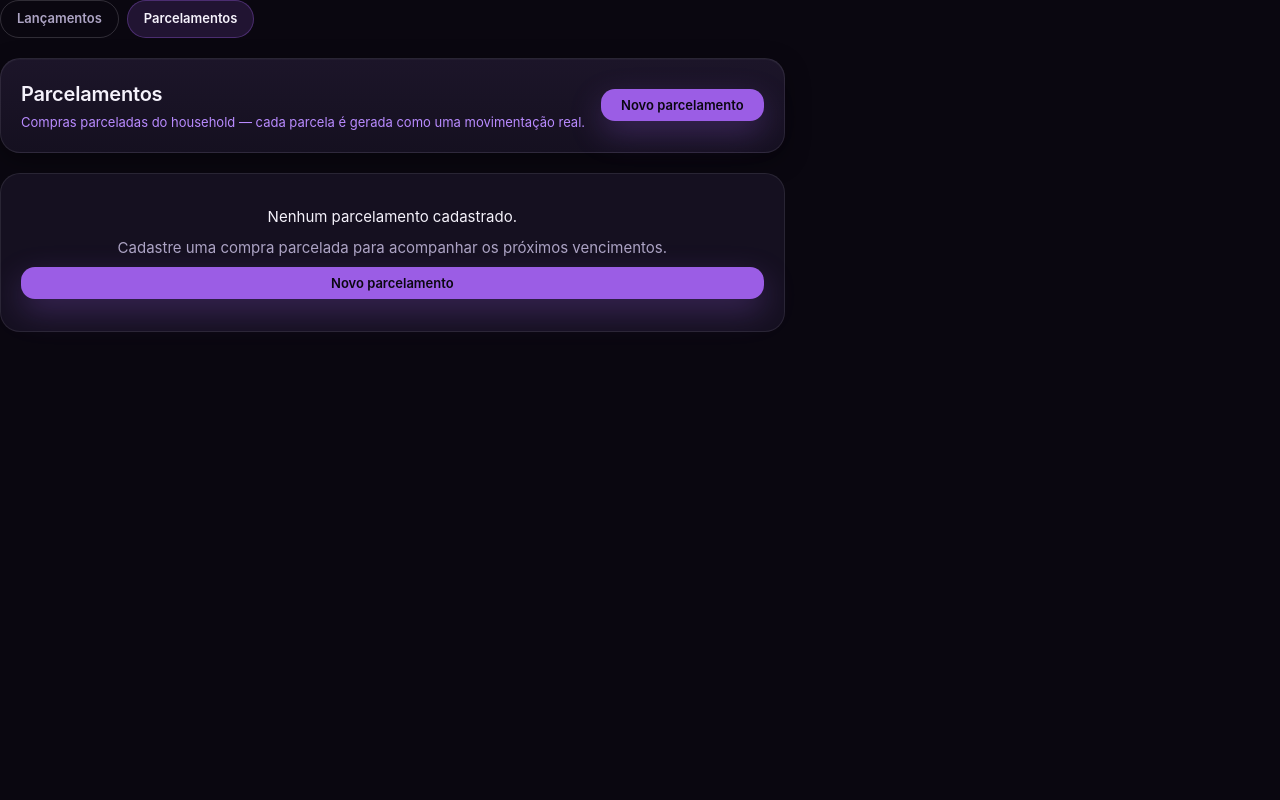
it: InstallmentPlansPage — estado vazio › o CTA do estado vazio abre o formulário de criação
Expected: the text "Nenhum parcelamento cadastrado." is shown, x1=268 y1=207 x2=517 y2=226
Click the 1st button "Novo parcelamento" at (682, 105), box x1=601 y1=89 x2=764 y2=121
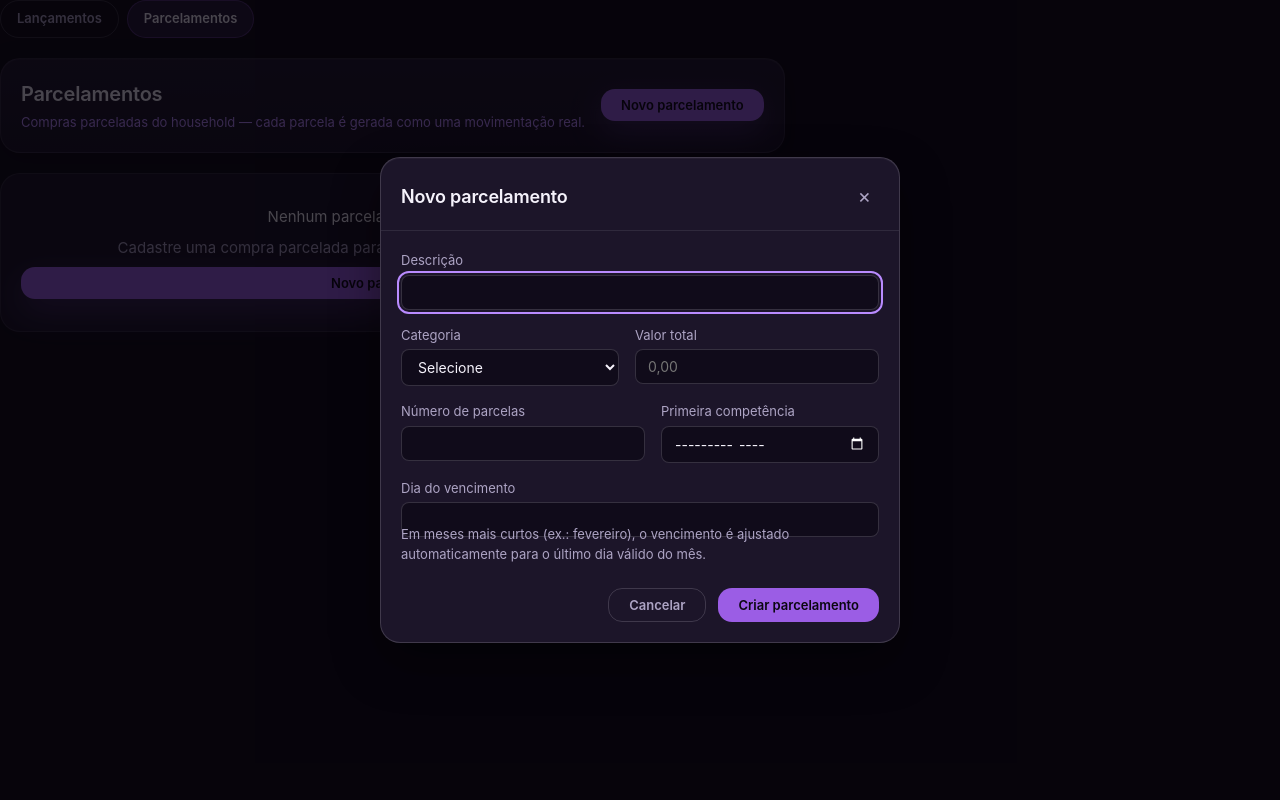
Expected: the dialog is shown, x1=380 y1=157 x2=900 y2=643
